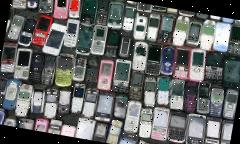electronic: (48, 46, 80, 92), (141, 42, 168, 83), (28, 12, 54, 52), (92, 90, 120, 126), (163, 108, 191, 144), (180, 18, 207, 54), (92, 55, 116, 92), (73, 23, 94, 58), (27, 83, 48, 118), (60, 17, 80, 50), (130, 11, 150, 43), (78, 0, 100, 26), (50, 0, 72, 20), (25, 0, 42, 11)
